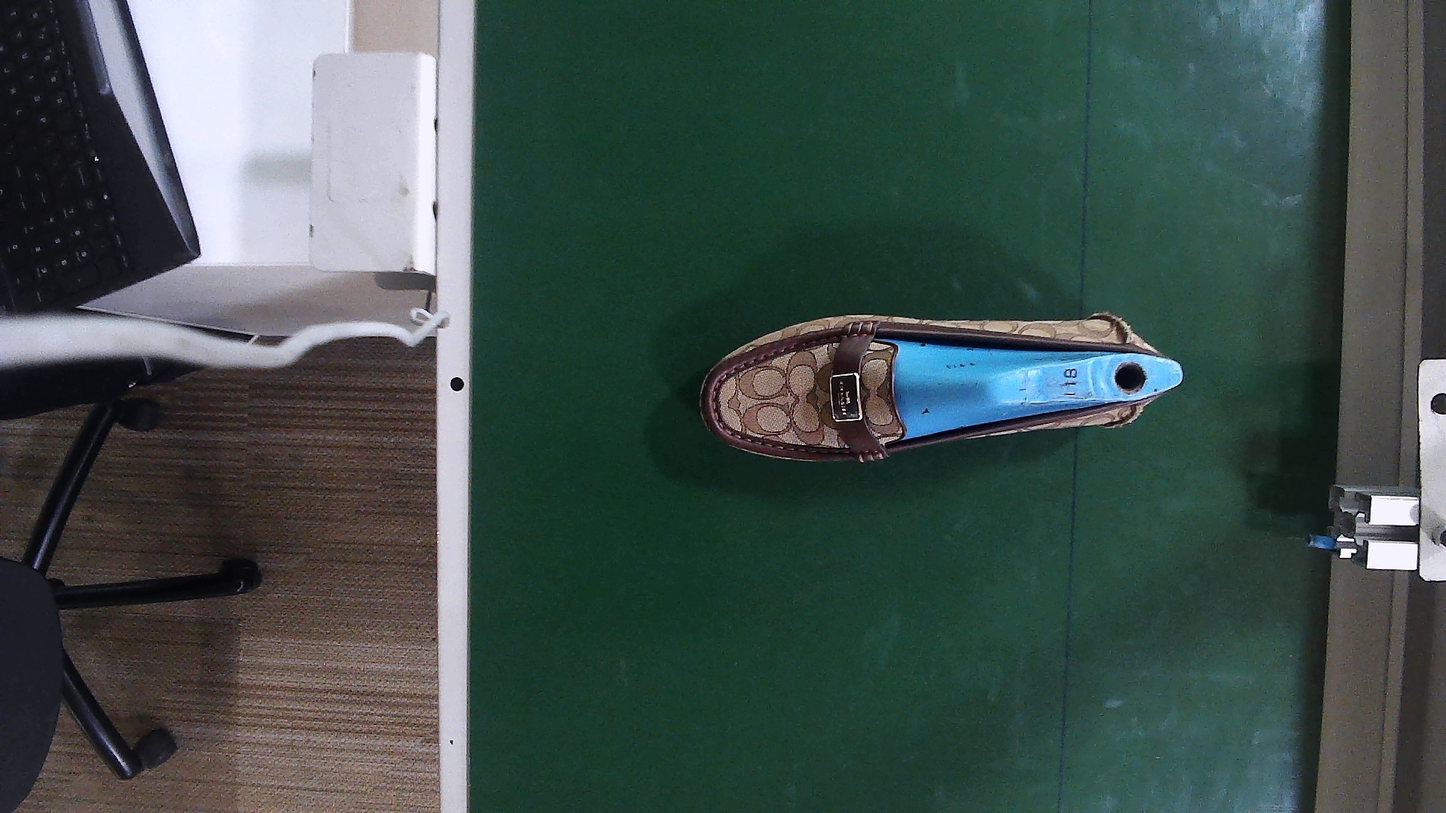shoe: (704, 315, 1180, 460)
